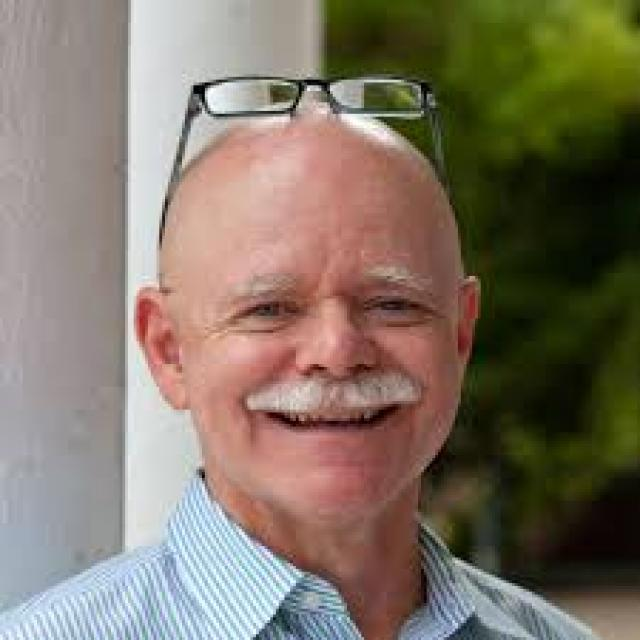bald: (109, 117, 514, 323)
